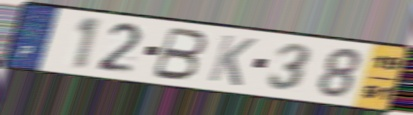1: (73, 15, 102, 72)
2: (96, 22, 144, 77)
3: (266, 42, 313, 92)
8: (315, 46, 362, 100)
B: (149, 25, 210, 82)
K: (205, 33, 259, 89)
